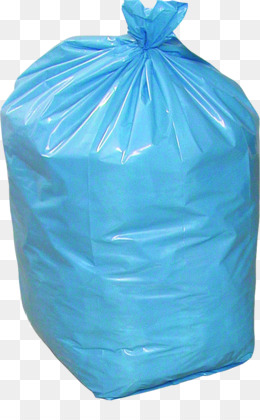plastic_bag: (1, 1, 260, 403)
